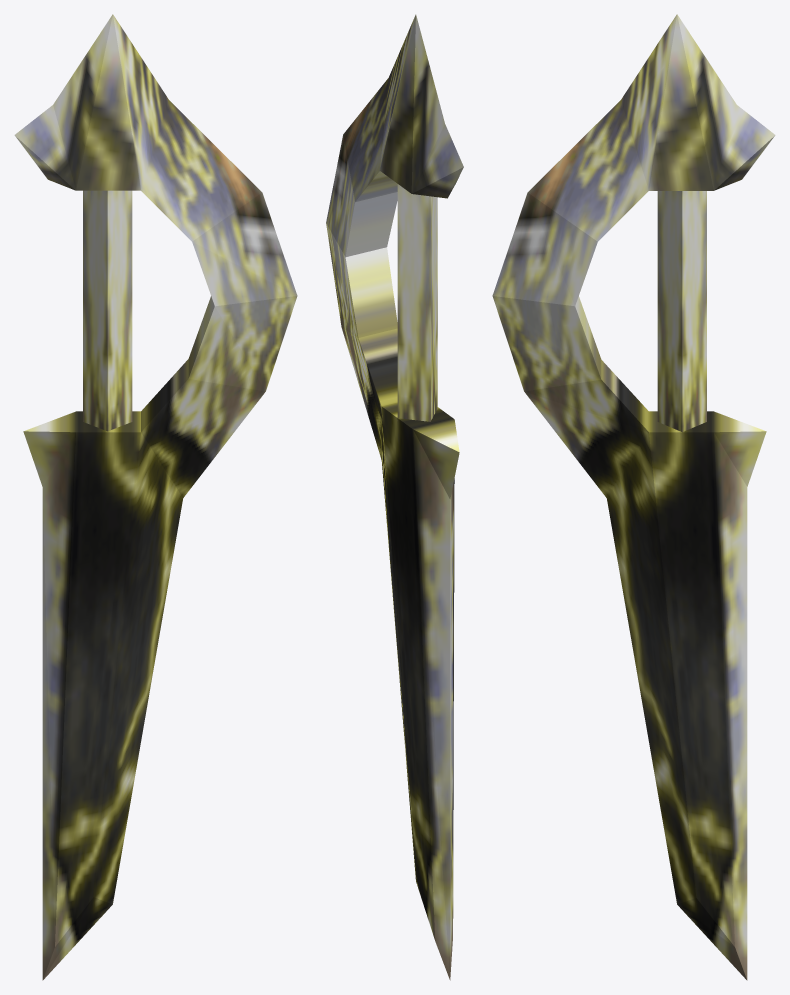
File: twinblade01_5.obj
The picture shows the model from 3 angles, left to right: view 1: azimuth 90°, elevation 25°; view 2: azimuth 210°, elevation 25°; view 3: azimuth 270°, elevation 25°; orthographic projection. The views are drawn at different scales.
Parts seen in each view (by area): view 1: cwdhsw01_5l; view 2: cwdhsw01_5l; view 3: cwdhsw01_5l.
Part boxes in pixels (<box>): cwdhsw01_5l: <box>14,14,297,980</box>; cwdhsw01_5l: <box>326,14,463,980</box>; cwdhsw01_5l: <box>492,14,775,980</box>.
Size of the model in its own units: 0.0375 by 0.7587 by 0.2013.
